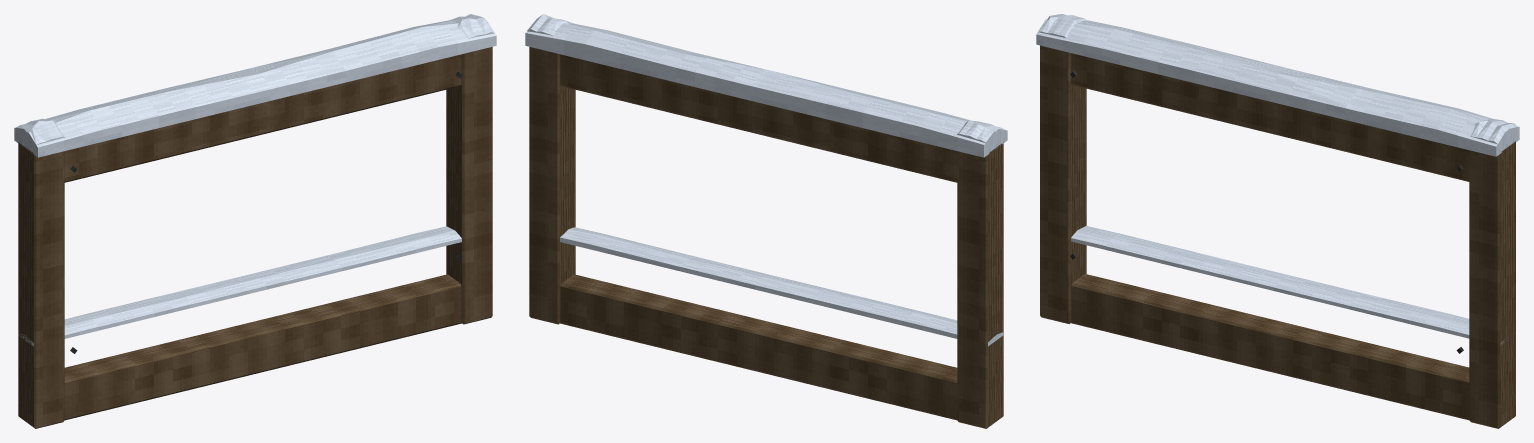
File: railing_snow_straight_assembly.glb
3 renders of one model, left to right at view 1: azimuth 30°, elevation 25°; view 2: azimuth 150°, elevation 25°; view 3: azimuth 330°, elevation 25°, orthographic.
Parts seen in each view (by area): view 1: railing_snow_straight; view 2: railing_snow_straight; view 3: railing_snow_straight.
Part boxes in pixels (x1,y1,x2,y2): railing_snow_straight: (14, 14, 496, 428); railing_snow_straight: (525, 14, 1007, 428); railing_snow_straight: (1036, 14, 1519, 428).
Bounding box in the file's own units: 1.8 × 1.12 × 0.16.
3 materials, 3 textured.
